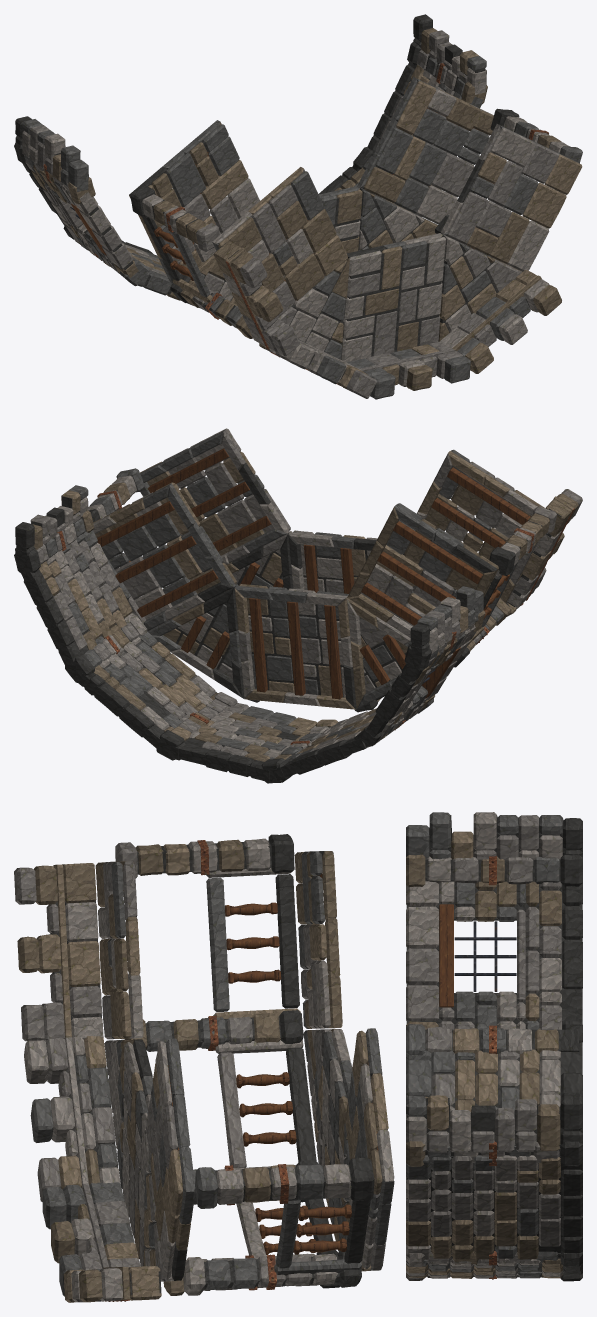
File: spire_top_fallen__cut_stone.glb
3 views of the same model, one above another, from view 1: azimuth 30°, elevation 25°; view 2: azimuth 150°, elevation 25°; view 3: azimuth 270°, elevation 25° (orthographic). The views are drawn at different scales.
Parts seen in each view (by area): view 1: model; view 2: model; view 3: model.
Boxes of the visible parts, x1,y1,x2,y2 form: model: (14,14,582,399); model: (14,428,582,783); model: (14,812,582,1302).
Bounding box in the file's own units: 8.24 × 4.16 × 6.38.
10 materials, 10 textured.
